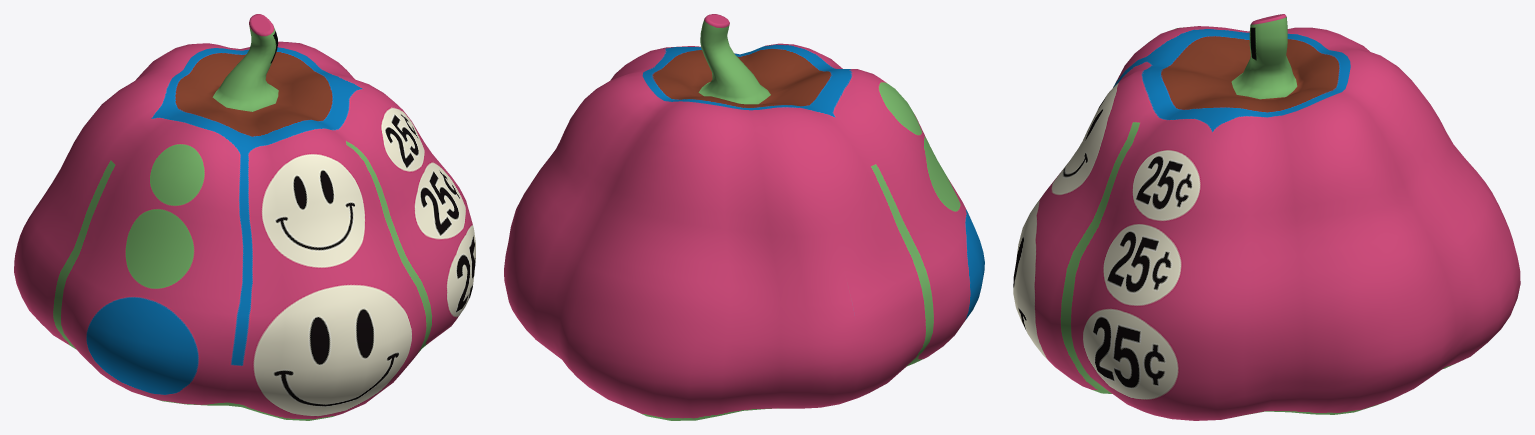
Rendered from 275C_Popup.fbx.
3 views of the same model, side by side, from view 1: azimuth 30°, elevation 25°; view 2: azimuth 150°, elevation 25°; view 3: azimuth 270°, elevation 25° (orthographic). The views are drawn at different scales.
Parts seen in each view (by area): view 1: Pumpkin275C_04_Motion; view 2: Pumpkin275C_04_Motion; view 3: Pumpkin275C_04_Motion.
Boxes of the visible parts, box(x1,y1,x2,y2) form: Pumpkin275C_04_Motion: box(14, 14, 475, 420); Pumpkin275C_04_Motion: box(504, 14, 984, 420); Pumpkin275C_04_Motion: box(1013, 14, 1520, 420).
Size of the model in its own units: 23.32 by 19.87 by 24.28.
1 material, 1 textured.
